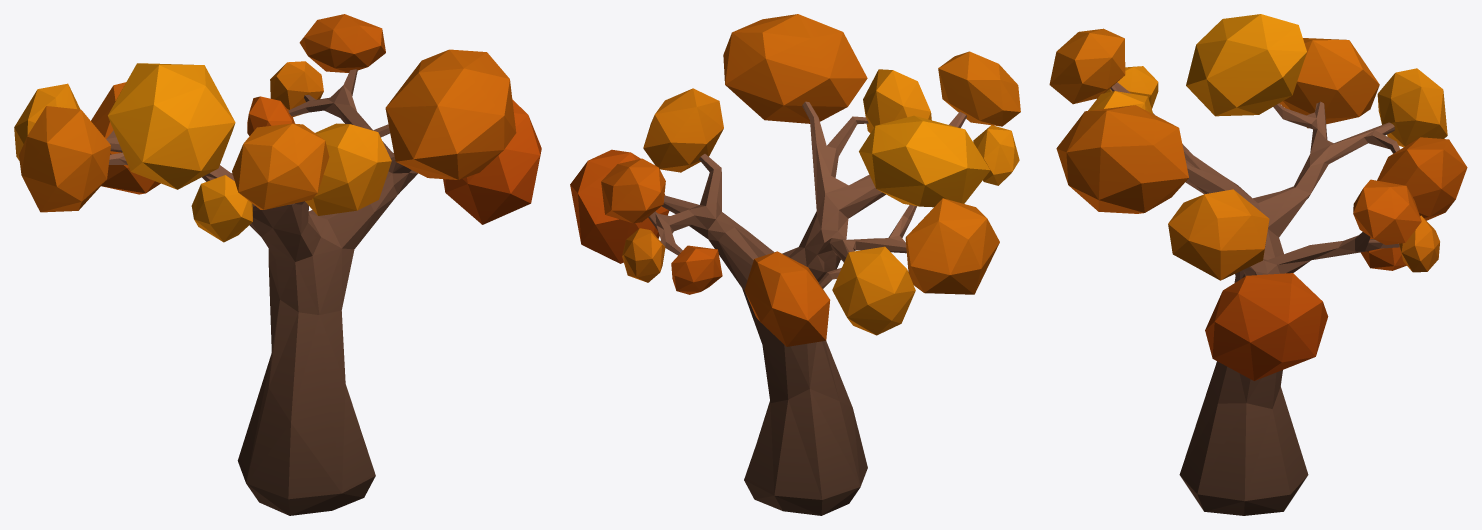
The model's file is autumn tree 7.fbx.
The picture shows the model from 3 angles, left to right: view 1: azimuth 30°, elevation 25°; view 2: azimuth 150°, elevation 25°; view 3: azimuth 270°, elevation 25°; orthographic projection. The views are drawn at different scales.
Visible parts, largest first — view 1: autumn tree 7; view 2: autumn tree 7; view 3: autumn tree 7.
Part boxes in pixels (x1=…): autumn tree 7: x1=14, y1=14, x2=541, y2=515; autumn tree 7: x1=570, y1=14, x2=1020, y2=515; autumn tree 7: x1=1049, y1=14, x2=1467, y2=515.
Size of the model in its own units: 931 by 850 by 762.
